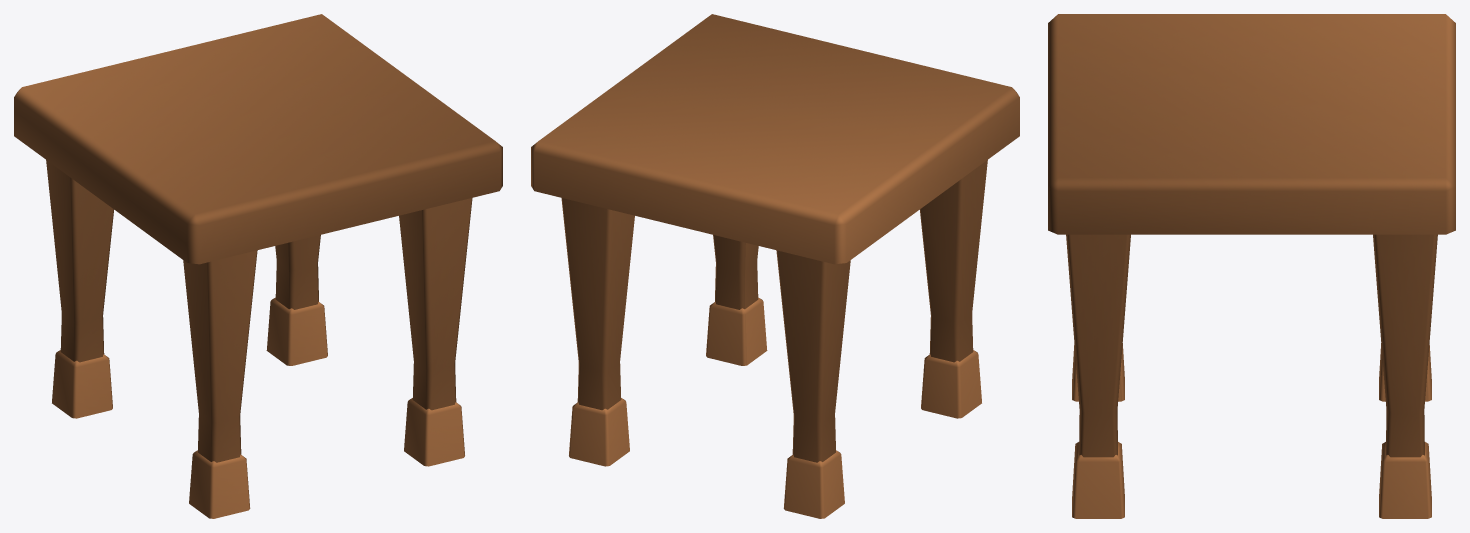
Rendered from Chair.fbx.
3 renders of one model, left to right at view 1: azimuth 30°, elevation 25°; view 2: azimuth 150°, elevation 25°; view 3: azimuth 270°, elevation 25°, orthographic. The views are drawn at different scales.
Parts seen in each view (by area): view 1: Chair; view 2: Chair; view 3: Chair.
Boxes of the visible parts, x1=… form: Chair: x1=14, y1=14, x2=502, y2=518; Chair: x1=531, y1=14, x2=1019, y2=518; Chair: x1=1048, y1=14, x2=1455, y2=518.
Bounding box in the file's own units: 0.5843 × 0.5581 × 0.5843.
